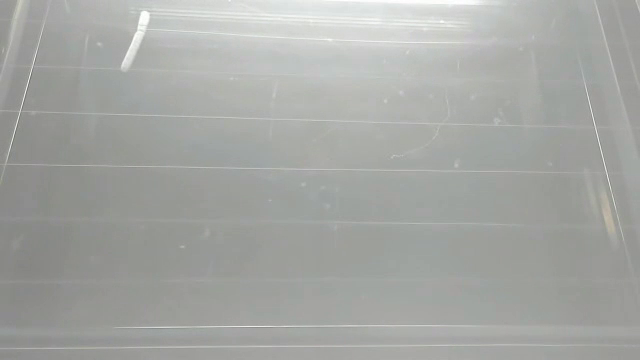alpha: (117, 9, 154, 73)
